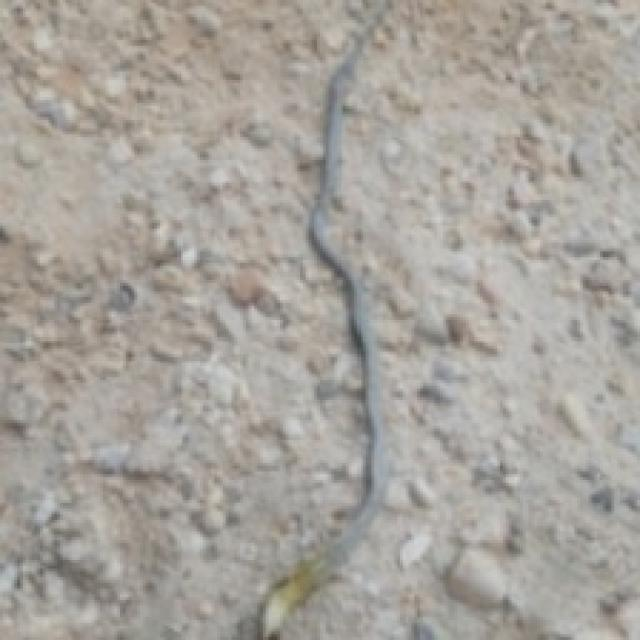king cobra: (257, 0, 386, 637)
